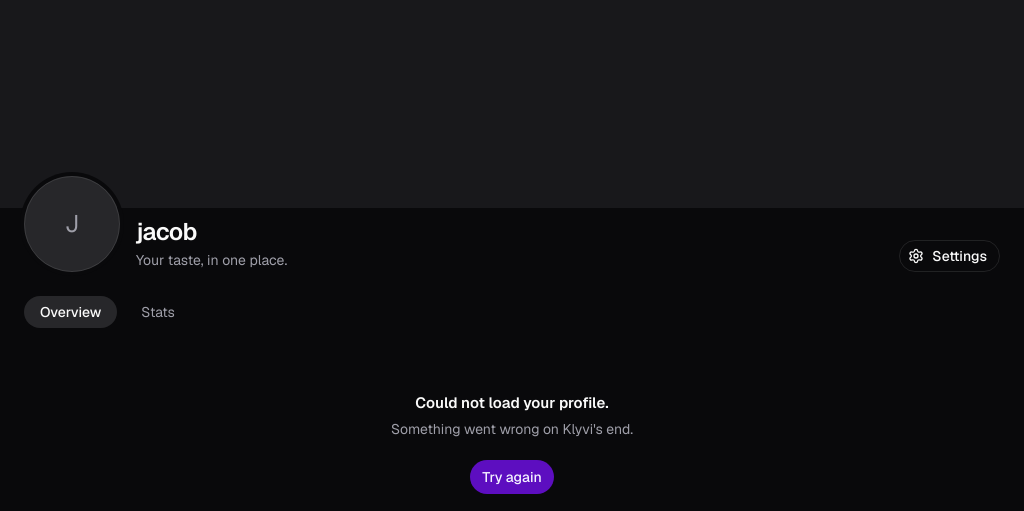
Test: ProfileShell › keeps the identity and offers a retry when the library fails
expect the text "Could not load your profile." is shown: met, box [415,393,609,412]
expect the heading "jacob" is shown: met, box [136,216,197,247]
Click the button "Try again": (512, 476) [469,458,555,494]
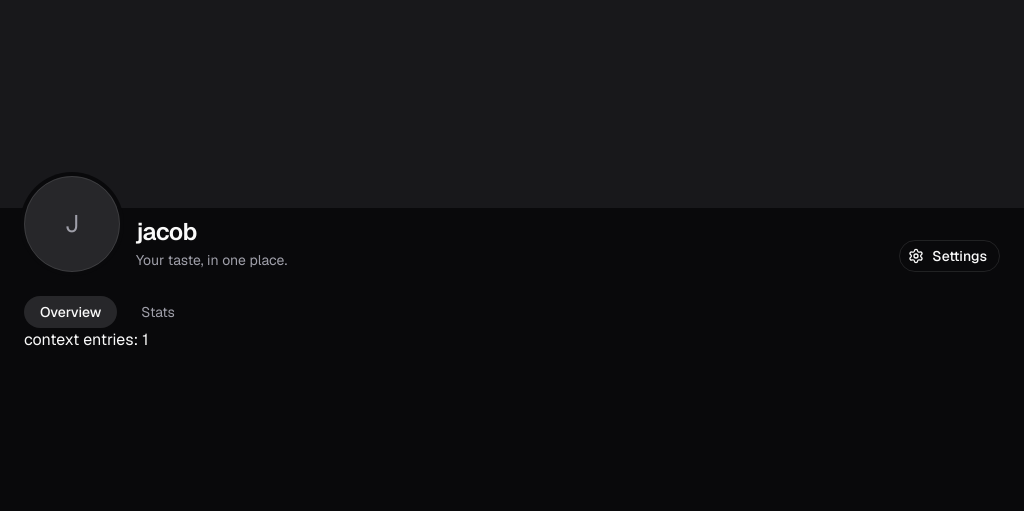
expect the text "context entries: 1" is shown: met, box [24,329,148,350]
